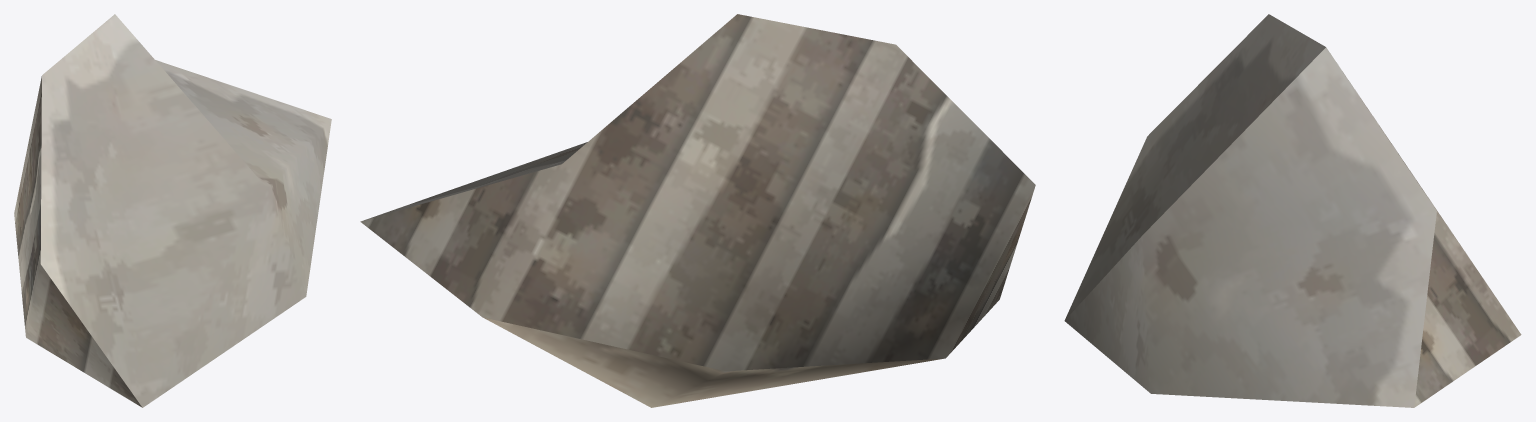
File: Toon_Column_01_Bit_01.fbx
The picture shows the model from 3 angles, left to right: view 1: azimuth 30°, elevation 25°; view 2: azimuth 150°, elevation 25°; view 3: azimuth 270°, elevation 25°; orthographic projection. The views are drawn at different scales.
Visible parts, largest first — view 1: Toon_Column_01_Bit_01; view 2: Toon_Column_01_Bit_01; view 3: Toon_Column_01_Bit_01.
Boxes of the visible parts, box(x1,y1,x2,y2) form: Toon_Column_01_Bit_01: box(14, 14, 331, 407); Toon_Column_01_Bit_01: box(360, 14, 1035, 407); Toon_Column_01_Bit_01: box(1064, 14, 1521, 407).
Bounding box in the file's own units: 2.68 × 1.82 × 2.3.
